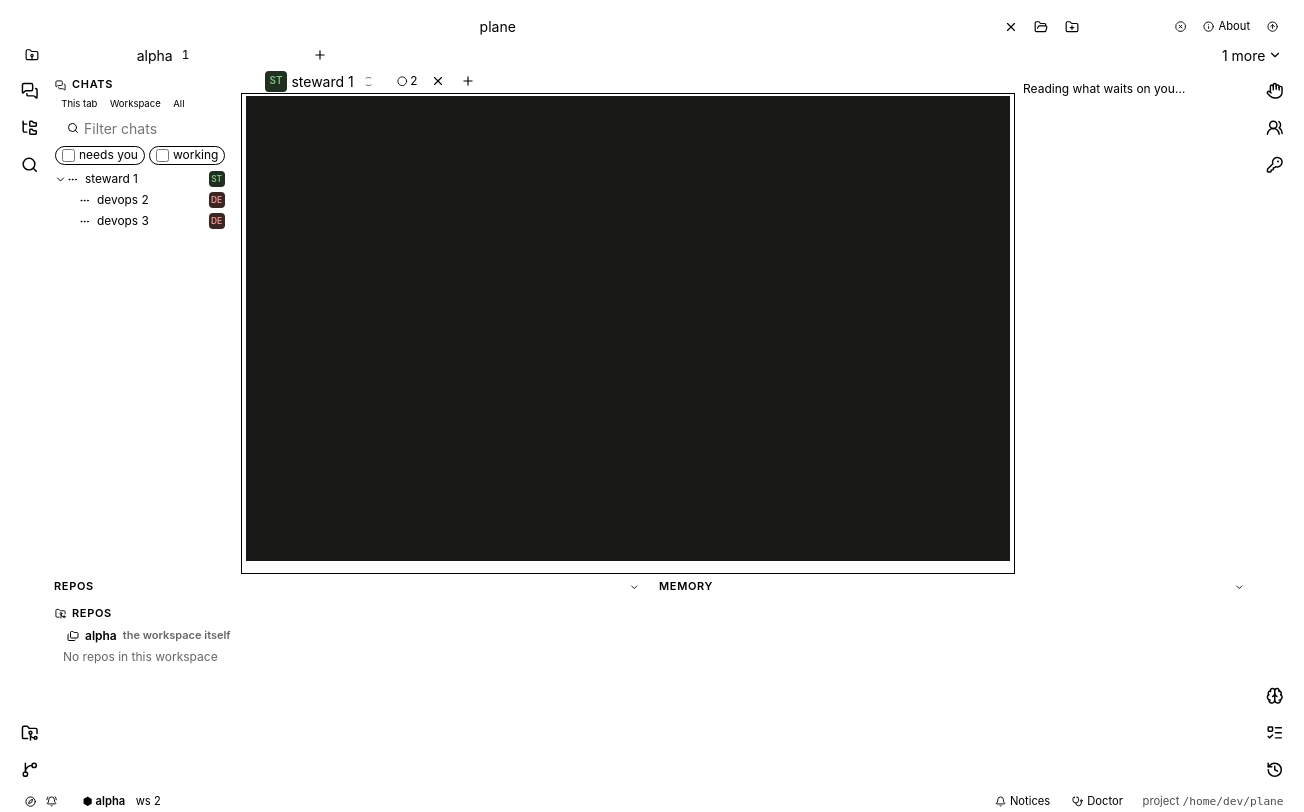
Test case: a working chat's card says what it is doing (#1493, #1675) › is the tab menu's line, drawn readable: heard as part of the card, whole, with no tooltip of its own (#1687)
Click the radio button labelled "All" at (179, 104), box [167,96,191,111]
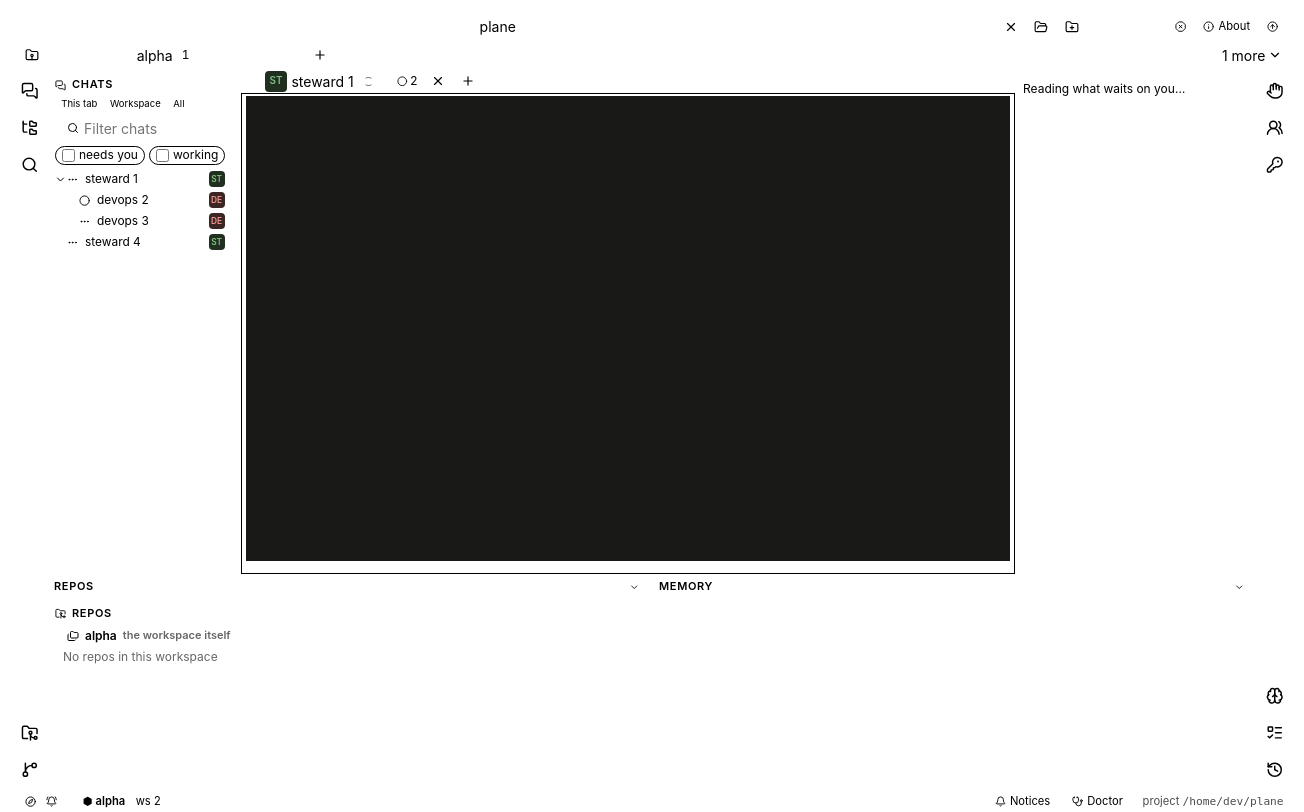
Hover over the list item "devops 2" at (144, 200), box [55,190,233,211]
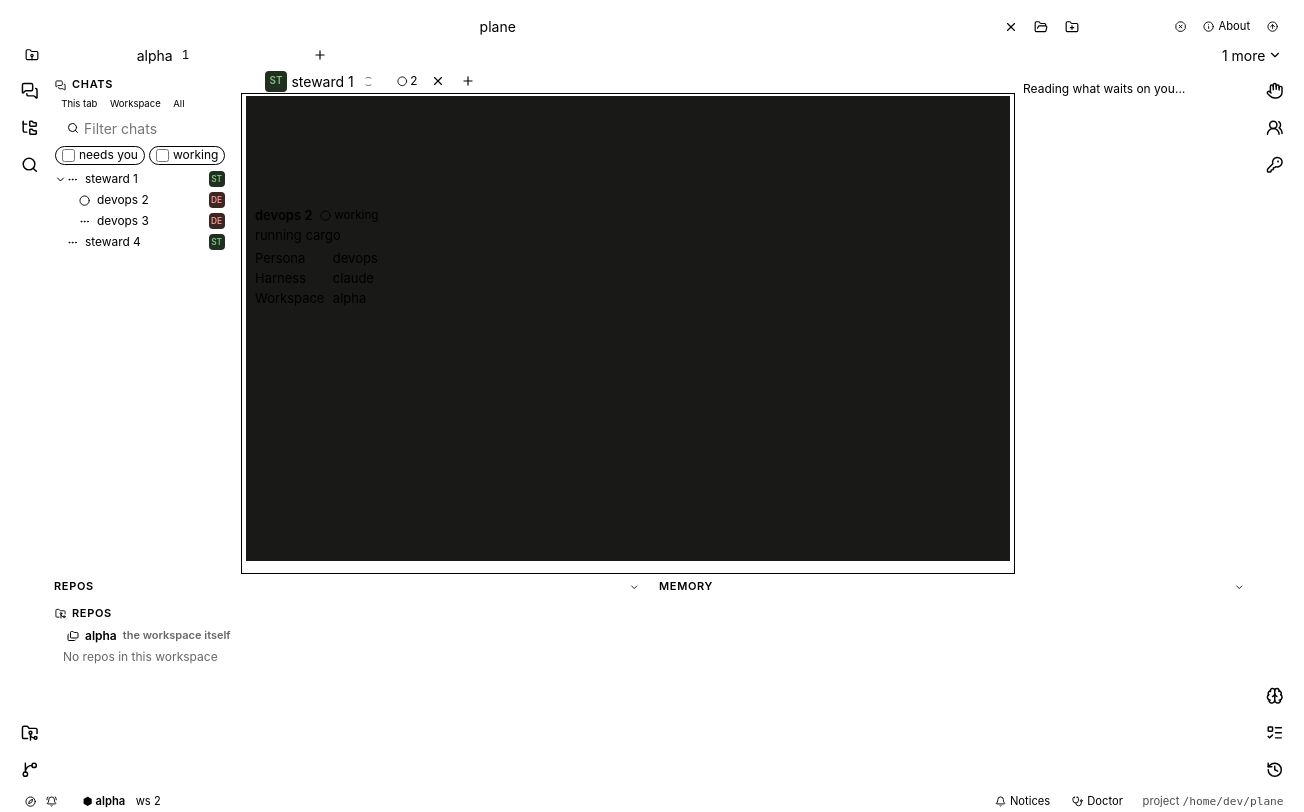
expect the text with class "chat-card-name" reads "devops 2": met, box [255,207,312,223]
expect the element with class "chat-doing" reads "running cargo": met, box [255,227,341,243]
expect the tooltip shows "running cargo": met, box [255,207,378,243]
